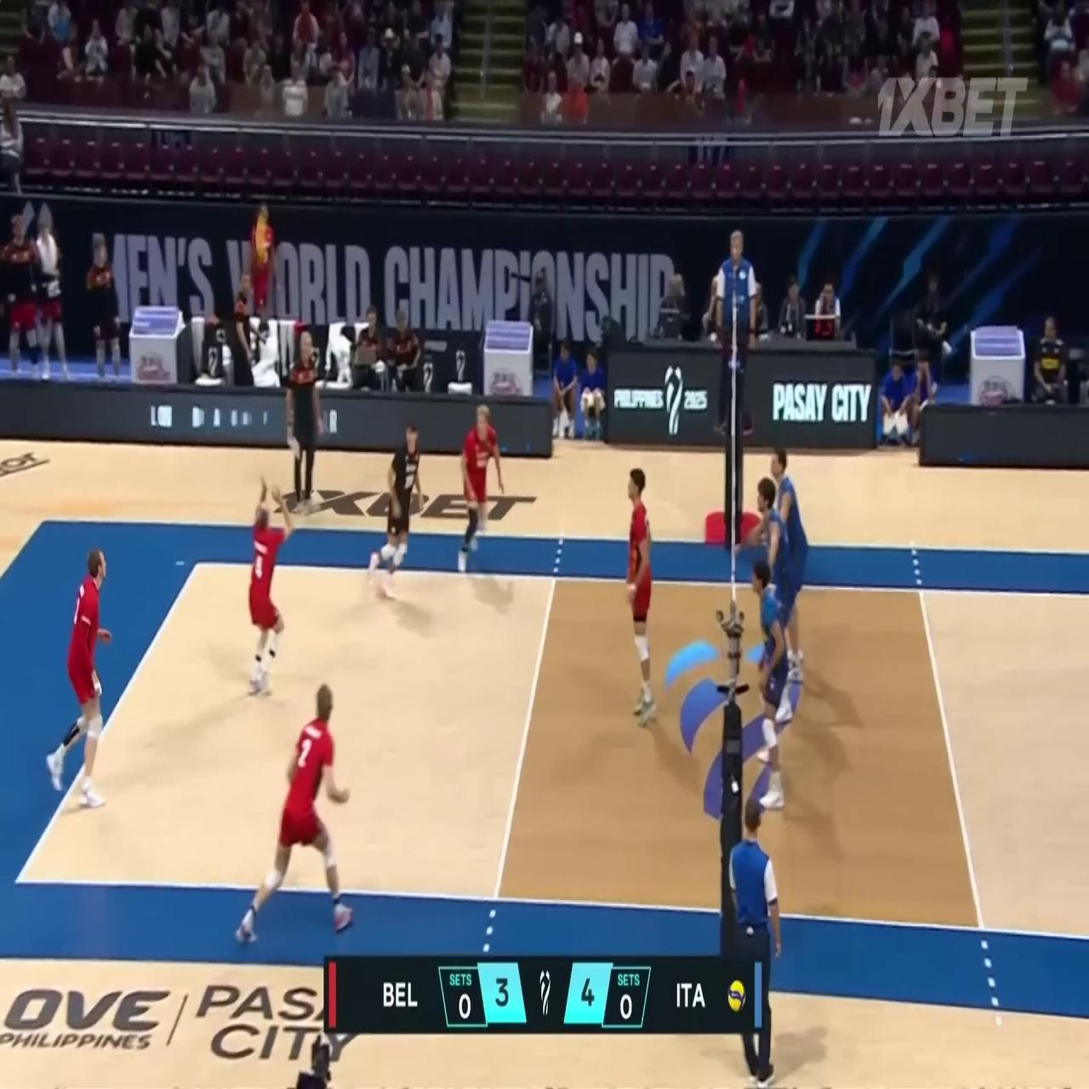ball: (251, 217, 267, 257)
